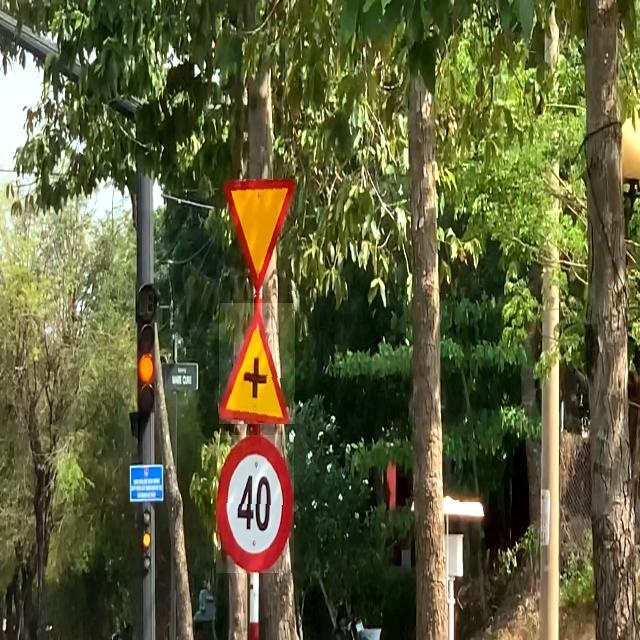bien_cam: (217, 435, 294, 573), (219, 303, 295, 424), (223, 179, 297, 299)
